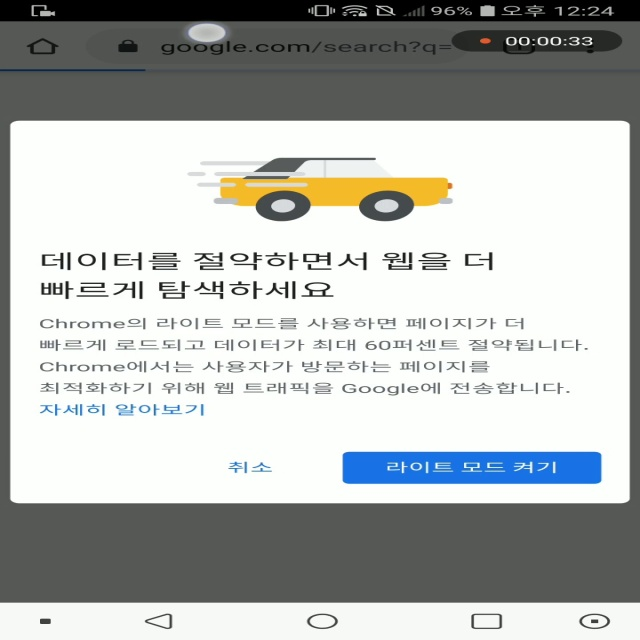Cursor: (185, 21, 230, 44)
